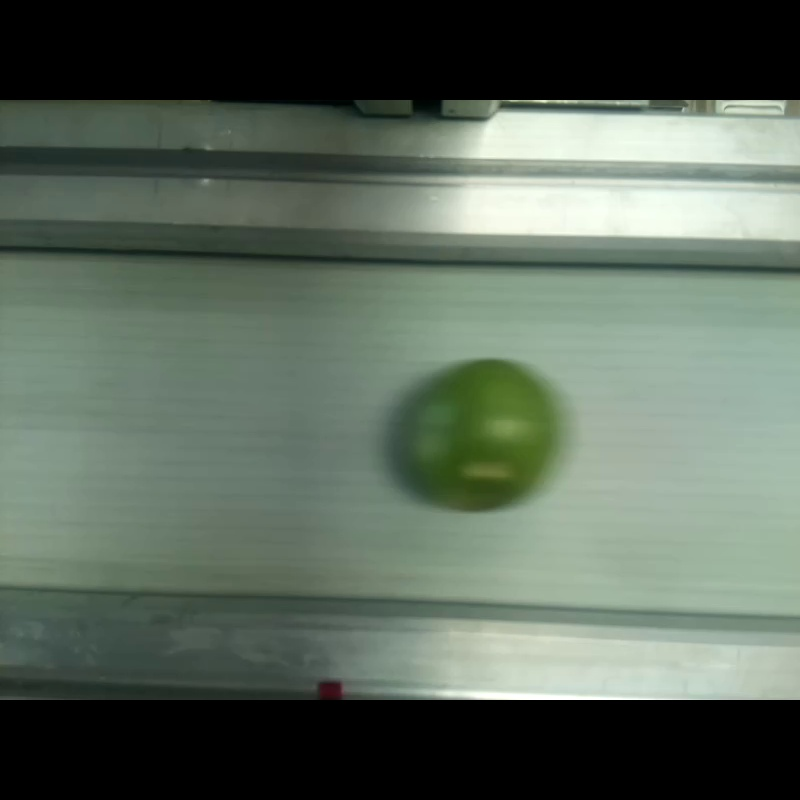lime: (399, 360, 555, 510)
